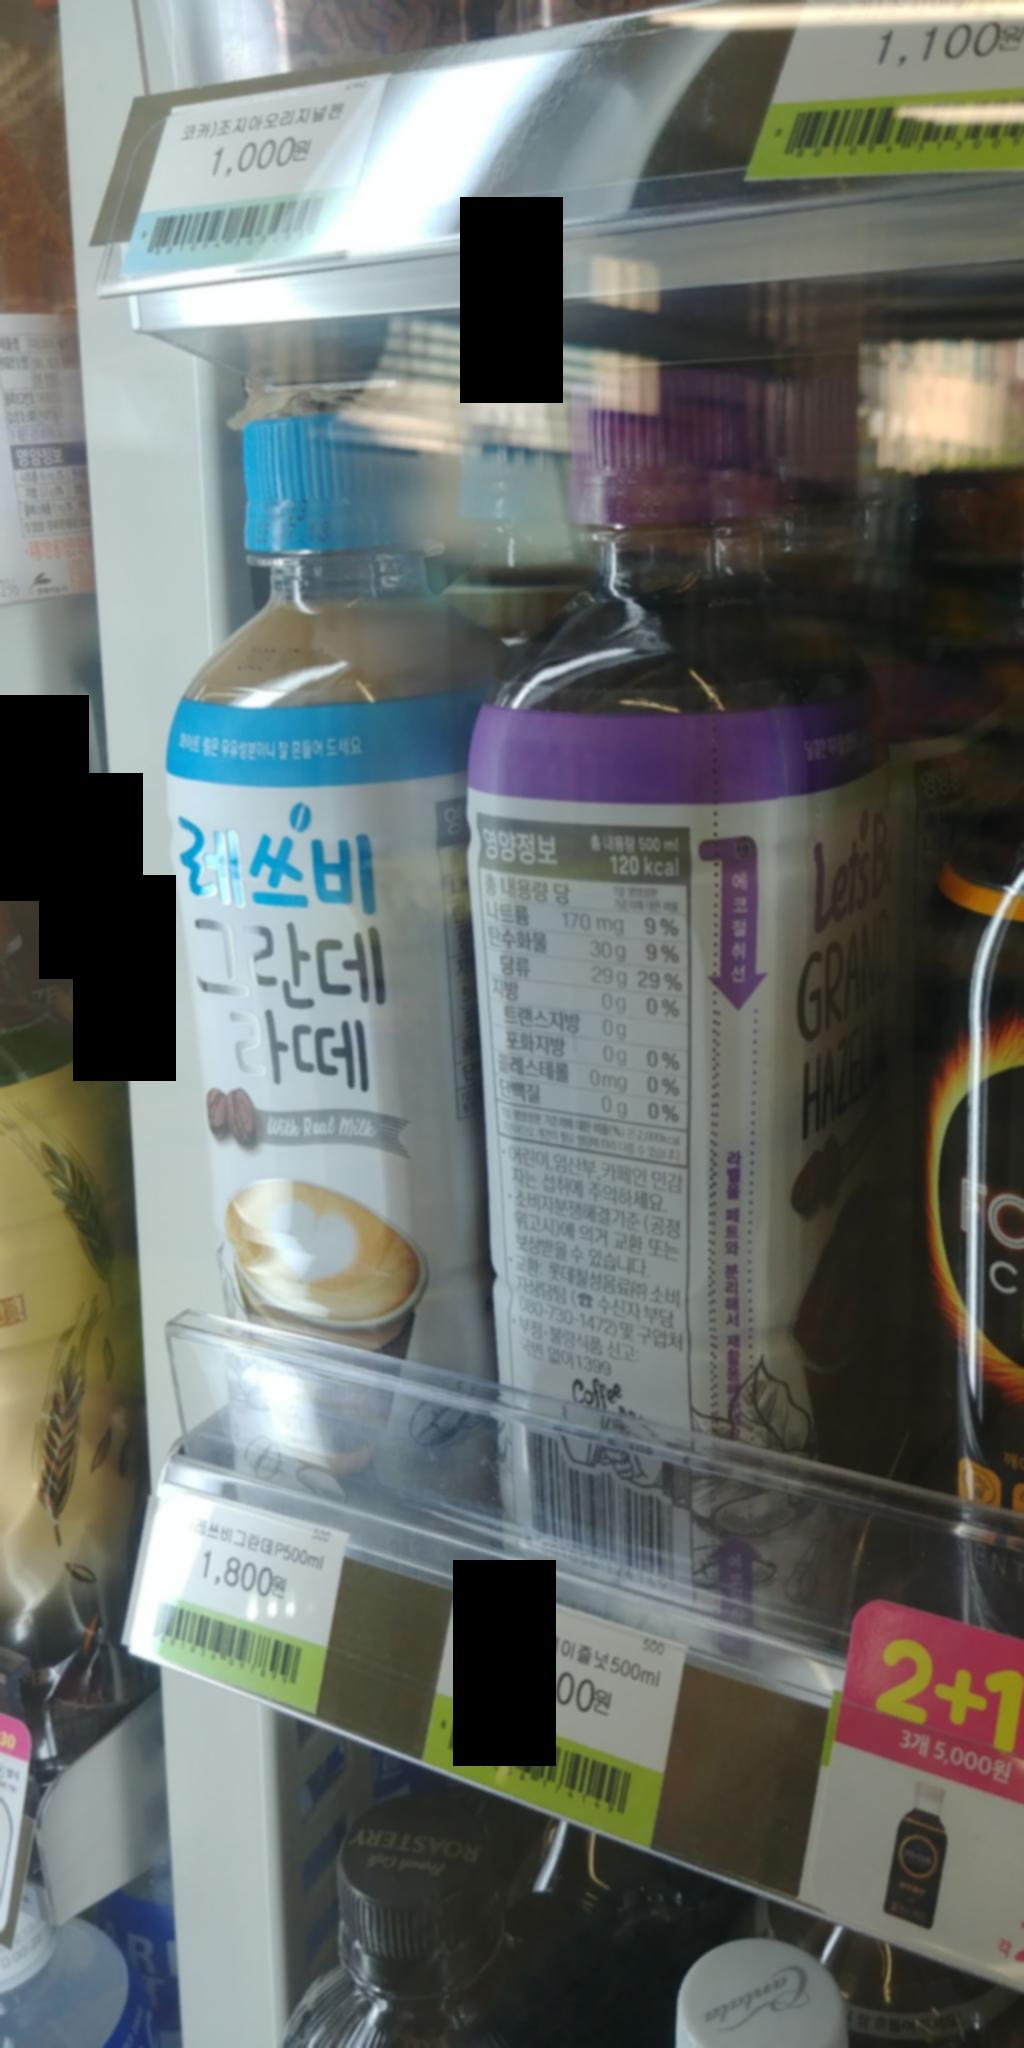letsbe_grande_hazelnut: (494, 398, 861, 1556)
